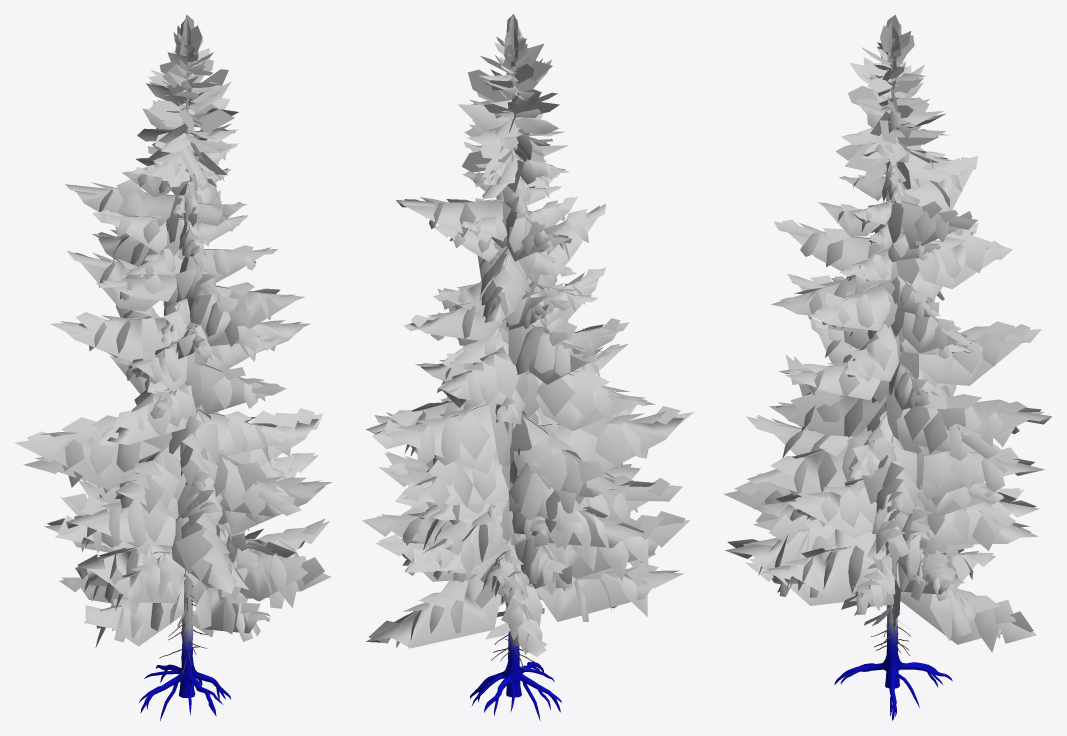
Rendered from Spruce_Tree1_LOD0.fbx.
3 views of the same model, side by side, from view 1: azimuth 30°, elevation 25°; view 2: azimuth 150°, elevation 25°; view 3: azimuth 270°, elevation 25° (orthographic).
Parts seen in each view (by area): view 1: polySurface2009; view 2: polySurface2009; view 3: polySurface2009.
Part boxes in pixels (left/top/right/bottom): polySurface2009: left=14, top=14, right=332, bottom=720; polySurface2009: left=362, top=14, right=693, bottom=720; polySurface2009: left=724, top=14, right=1051, bottom=720.
Bounding box in the file's own units: 940 × 2225 × 958.
